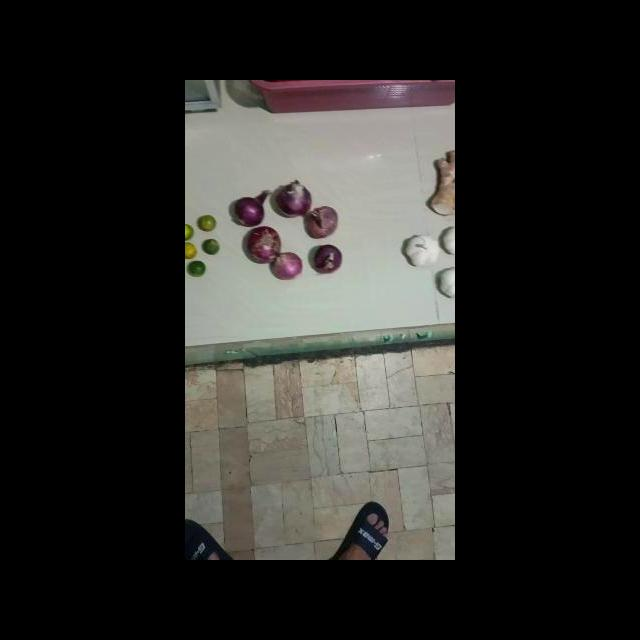garlic: (408, 235, 439, 268), (438, 267, 455, 299)
ginger: (430, 148, 455, 215)
onion: (232, 189, 270, 226), (302, 203, 339, 239), (277, 180, 312, 218), (247, 225, 280, 262), (270, 251, 302, 281), (312, 243, 343, 273)
